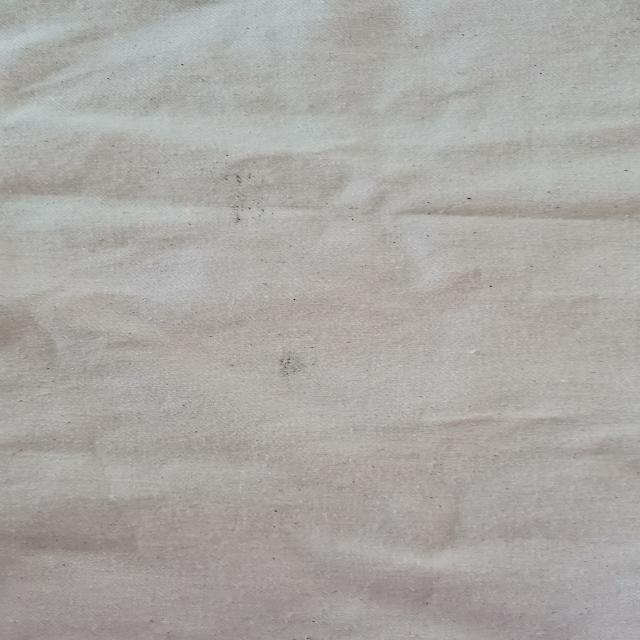taaaches: (256, 344, 342, 389)
